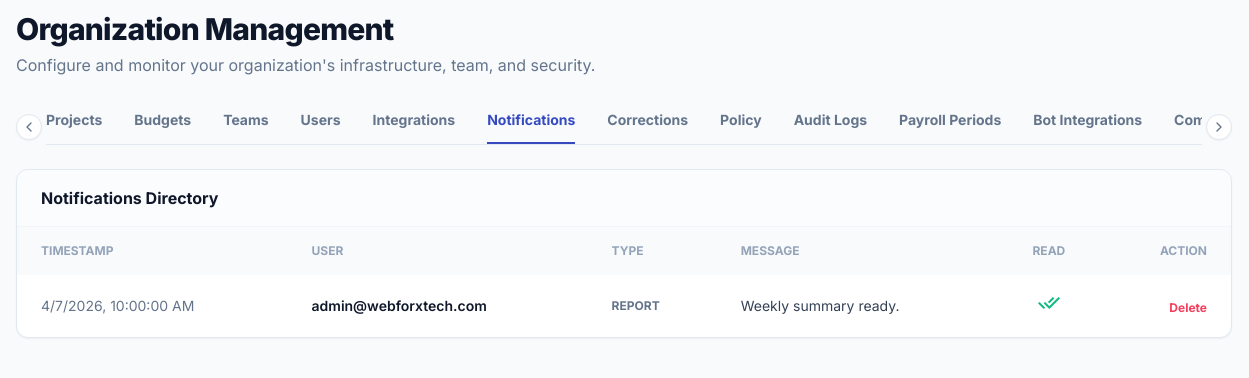
Scenario: Admin audit logs › lets admins delete a notification from the directory
Click the button "Delete" at (1188, 308), box 1169,300 -> 1207,316
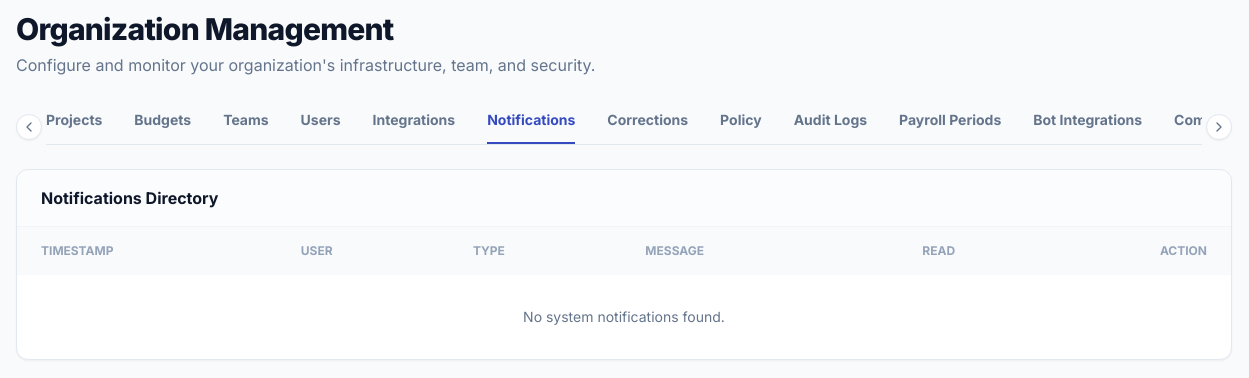
Expected: the text "Weekly summary ready." is gone
